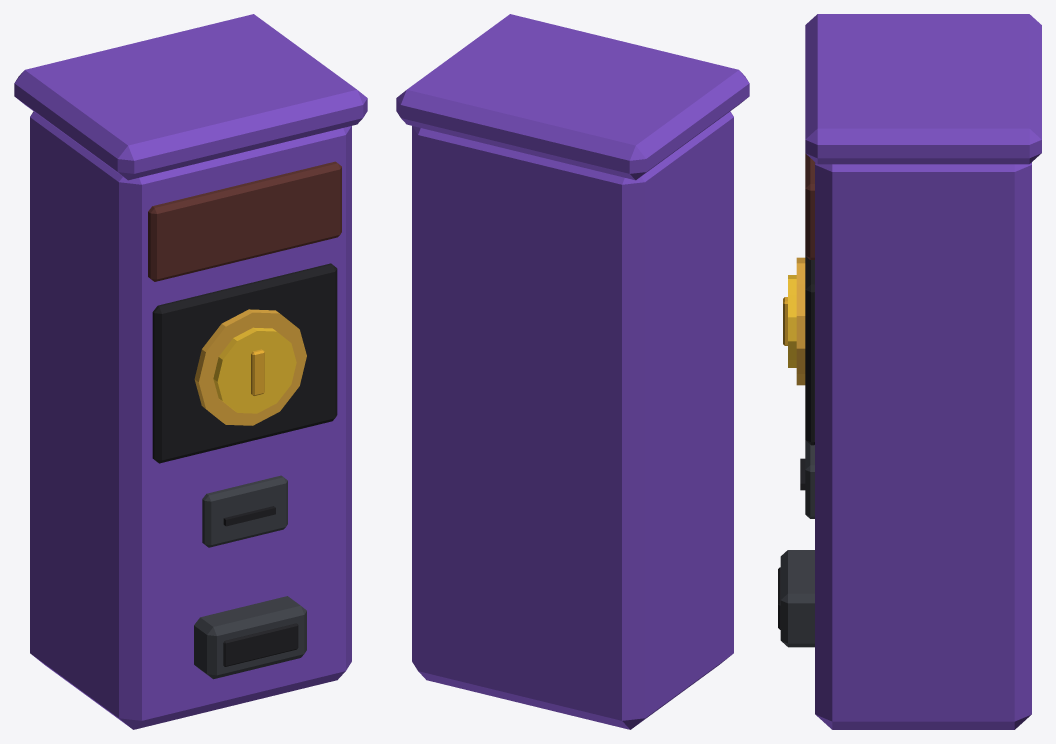
File: token_machine.glb
3 views of the same model, side by side, from view 1: azimuth 30°, elevation 25°; view 2: azimuth 150°, elevation 25°; view 3: azimuth 270°, elevation 25° (orthographic). The views are drawn at different scales.
Visible parts, largest first — view 1: token_machine; view 2: token_machine; view 3: token_machine.
Boxes of the visible parts, x1,y1,x2,y2 form: token_machine: [14, 14, 367, 729]; token_machine: [396, 14, 749, 729]; token_machine: [778, 14, 1041, 729].
Size of the model in its own units: 0.6 by 1.36 by 0.535.
